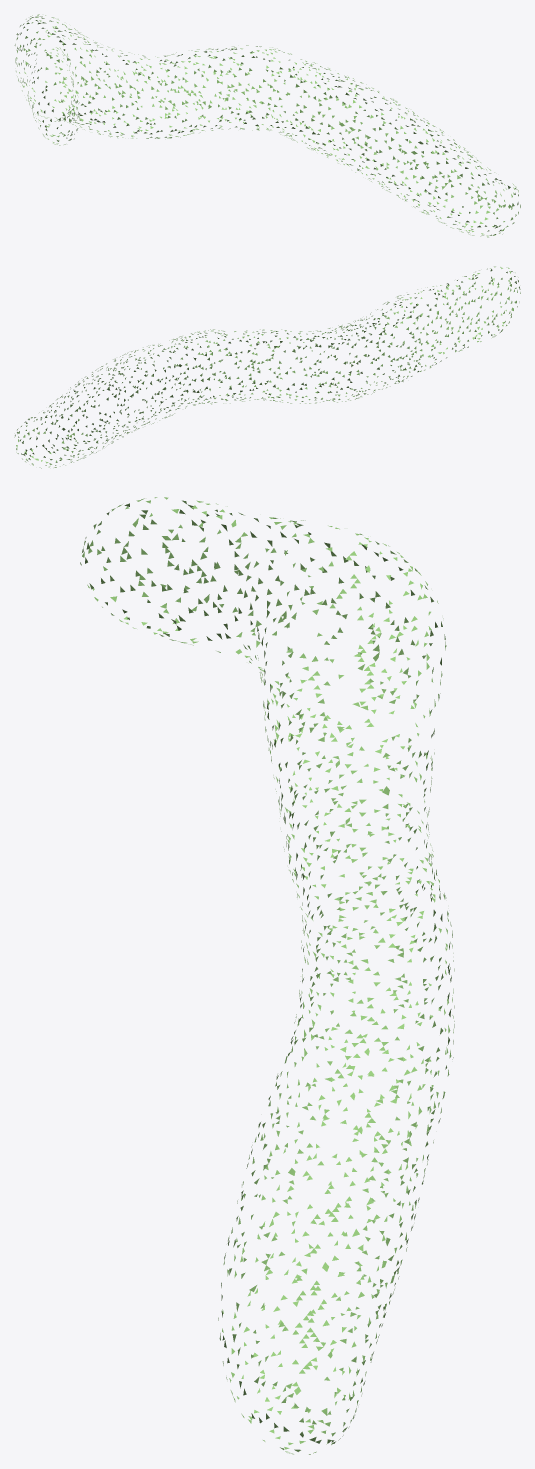
The model's file is morph_014.glb.
The picture shows the model from 3 angles, top to bottom: view 1: azimuth 30°, elevation 25°; view 2: azimuth 150°, elevation 25°; view 3: azimuth 270°, elevation 25°; orthographic projection. The views are drawn at different scales.
Bounding box in the file's own units: 108 × 62.29 × 38.62.
